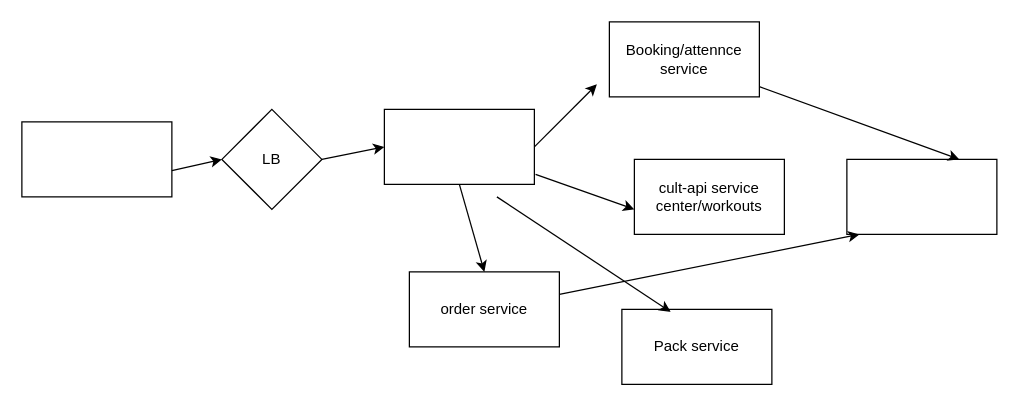
The diagram is 1019 pixels wide and 406 high, and some of its shapes have lost their labels. Here are the shapes that lost their labels. From the top down, the centre of each, then its label:
the point at 96,159: App/users
the point at 458,146: middleware/ cf-api
the point at 921,196: membership service
